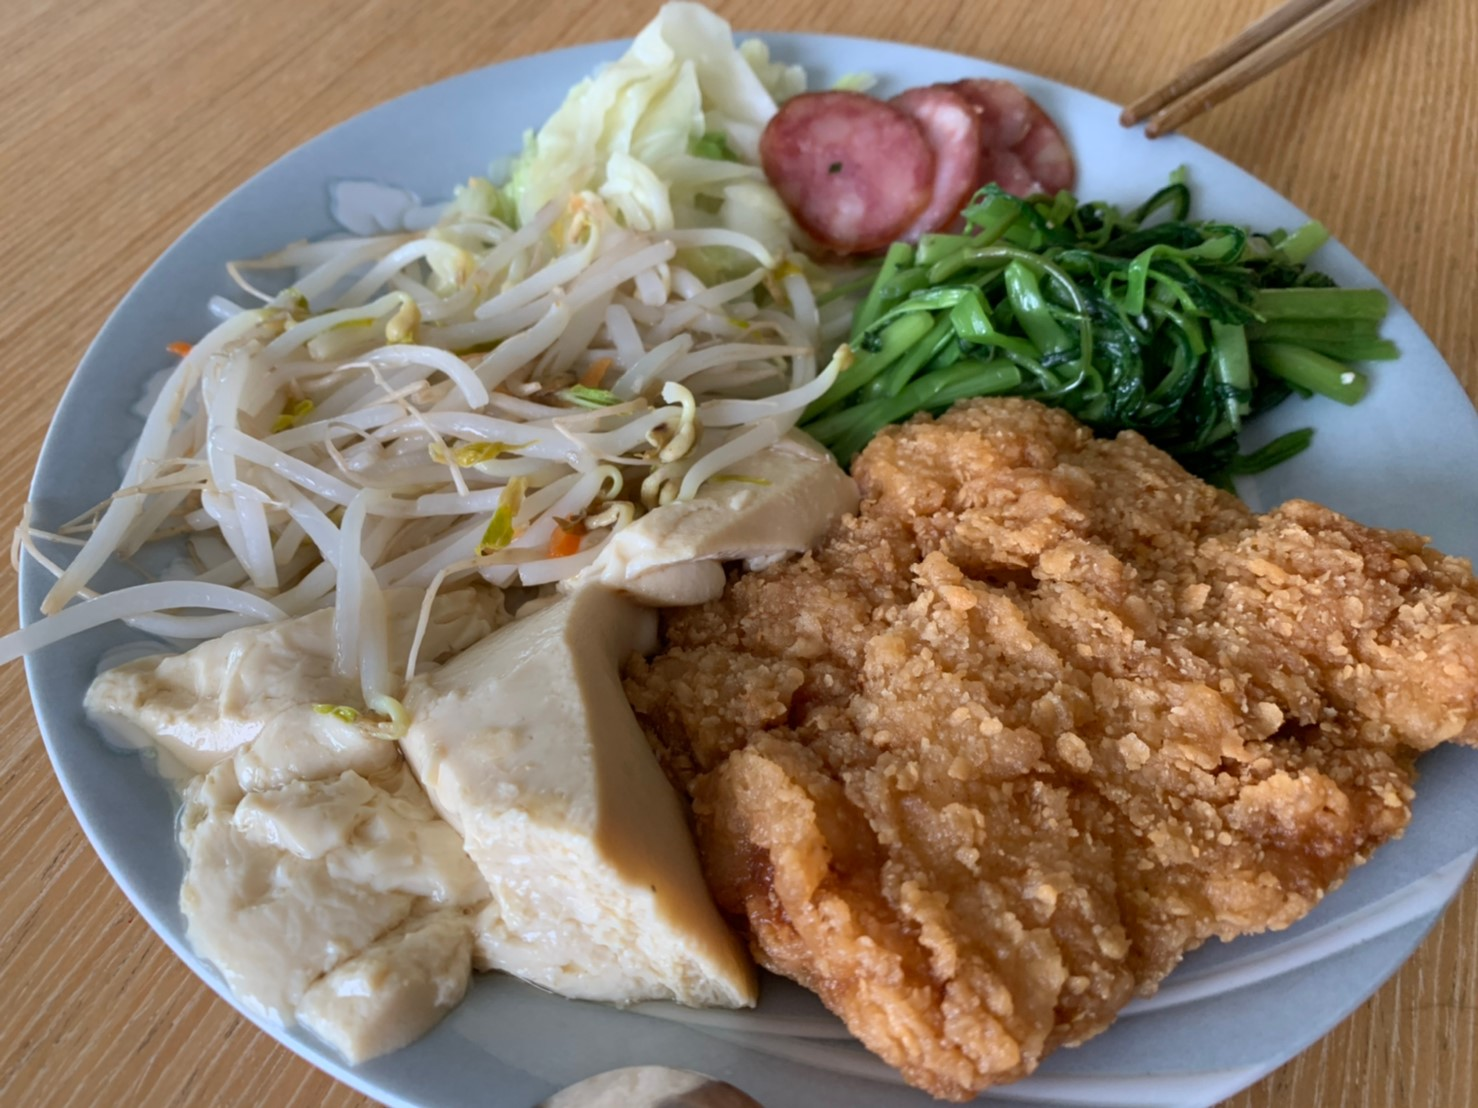chinese_cabbage: (470, 22, 767, 219)
chinese_sausage: (770, 71, 1076, 236)
fried_chicken: (655, 405, 1461, 1087)
mung_bean_sprouts: (58, 223, 680, 619)
water_spinach: (836, 208, 1369, 411)
